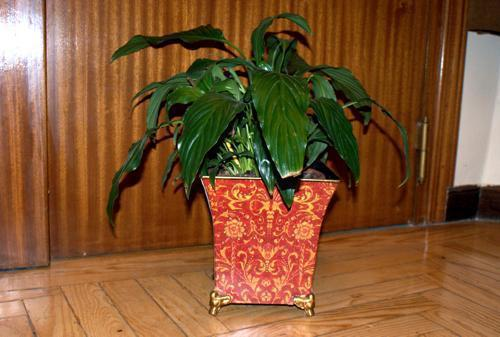Matera: (99, 13, 421, 318)
